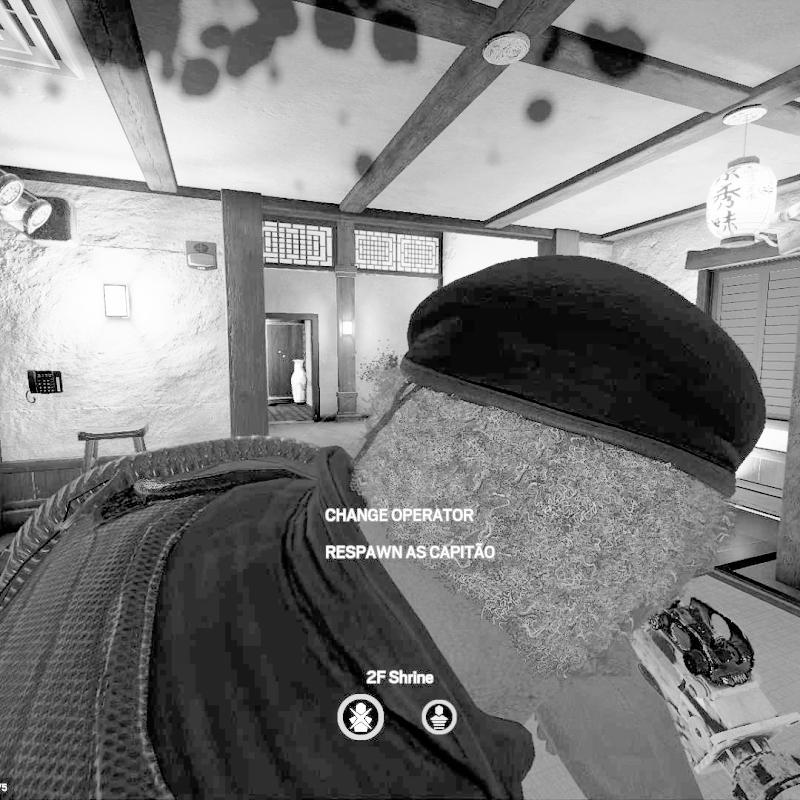Character: (0, 249, 783, 800)
Head: (358, 253, 769, 686)
